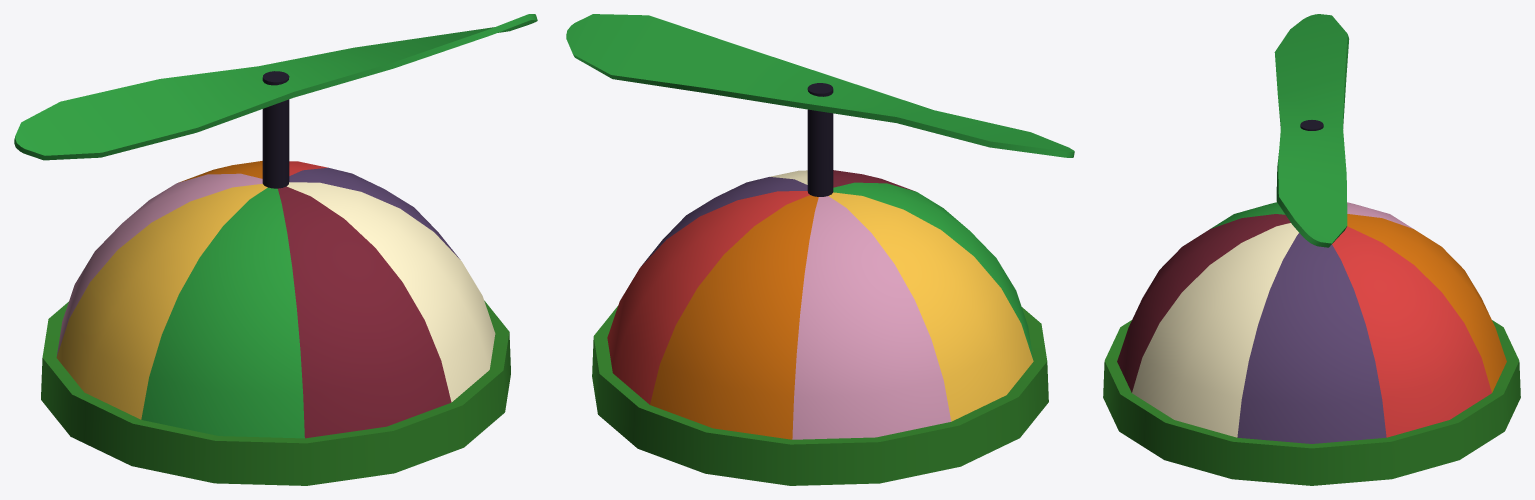
Rendered from pinwheel.fbx.
The picture shows the model from 3 angles, left to right: view 1: azimuth 30°, elevation 25°; view 2: azimuth 150°, elevation 25°; view 3: azimuth 270°, elevation 25°; orthographic projection. The views are drawn at different scales.
Parts seen in each view (by area): view 1: pinwheel; view 2: pinwheel; view 3: pinwheel.
Part boxes in pixels (x1,y1,x2,y2): pinwheel: [14, 14, 537, 485]; pinwheel: [566, 14, 1074, 485]; pinwheel: [1103, 14, 1520, 485].
Size of the model in its own units: 123 by 73.24 by 97.26.
